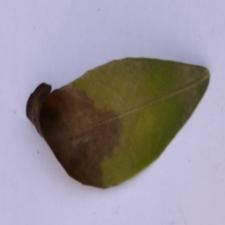Black: (24, 72, 124, 202)
